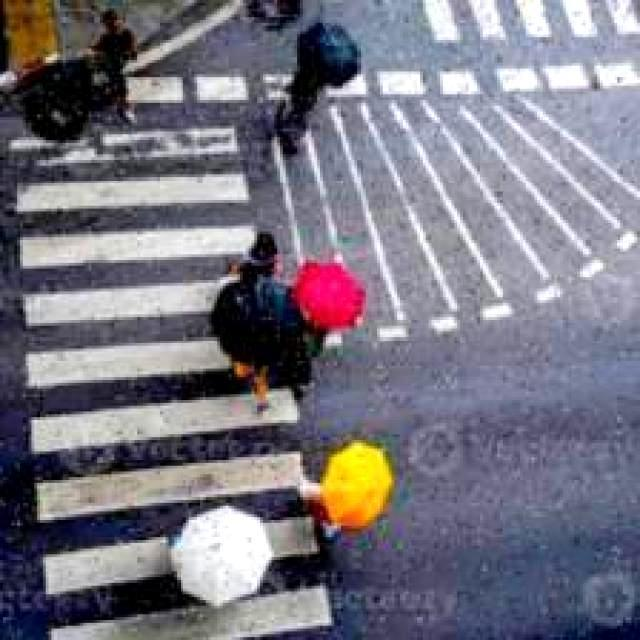crosswalk: (2, 82, 329, 640)
